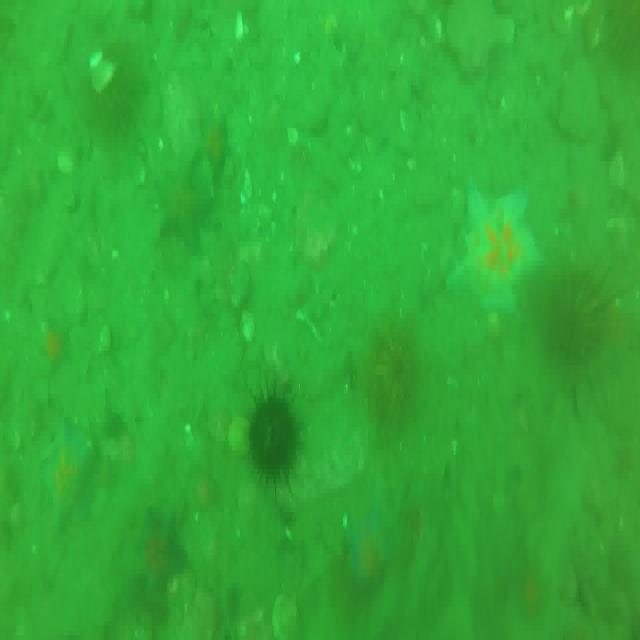echinus: (548, 266, 616, 376), (245, 380, 303, 498), (371, 316, 424, 444)
scallop: (85, 54, 118, 92)
starfish: (445, 176, 541, 326), (38, 416, 92, 540), (344, 498, 400, 596), (153, 159, 213, 240), (138, 510, 188, 602)
